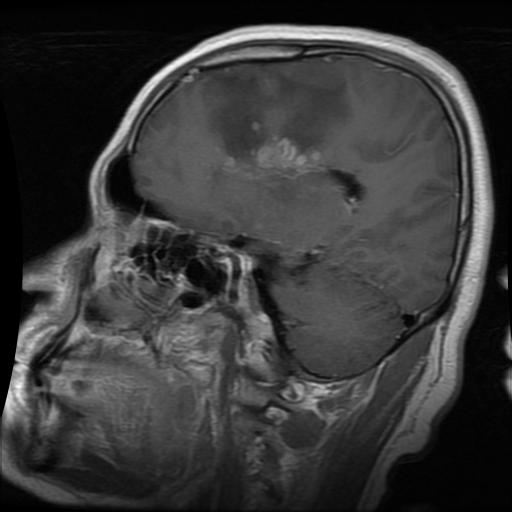Gliomia_tumour: (203, 75, 344, 169)
